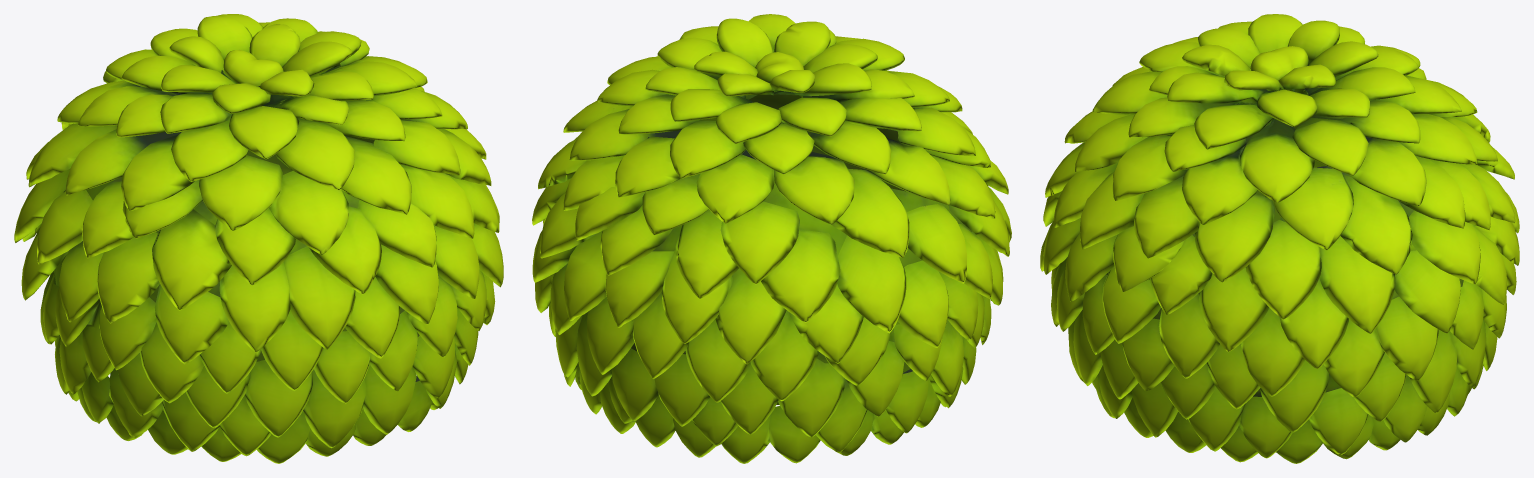
The picture shows the model from 3 angles, left to right: view 1: azimuth 30°, elevation 25°; view 2: azimuth 150°, elevation 25°; view 3: azimuth 270°, elevation 25°; orthographic projection.
Visible parts, largest first — view 1: garden-bush; view 2: garden-bush; view 3: garden-bush.
Boxes of the visible parts, x1,y1,x2,y2 form: garden-bush: (14,14,503,463); garden-bush: (532,14,1011,463); garden-bush: (1040,14,1519,463).
Bounding box in the file's own units: 0.9704 × 0.758 × 0.9704.
Materials: 1 (1 with a texture image).
